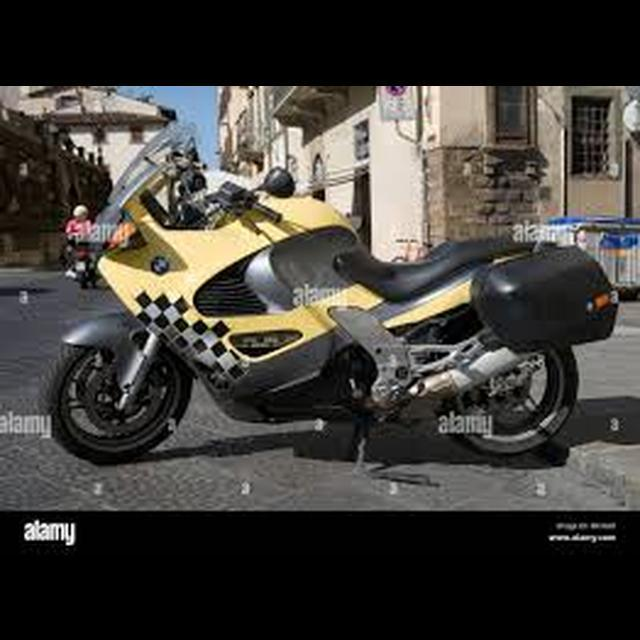motorcycle: (41, 111, 625, 474)
